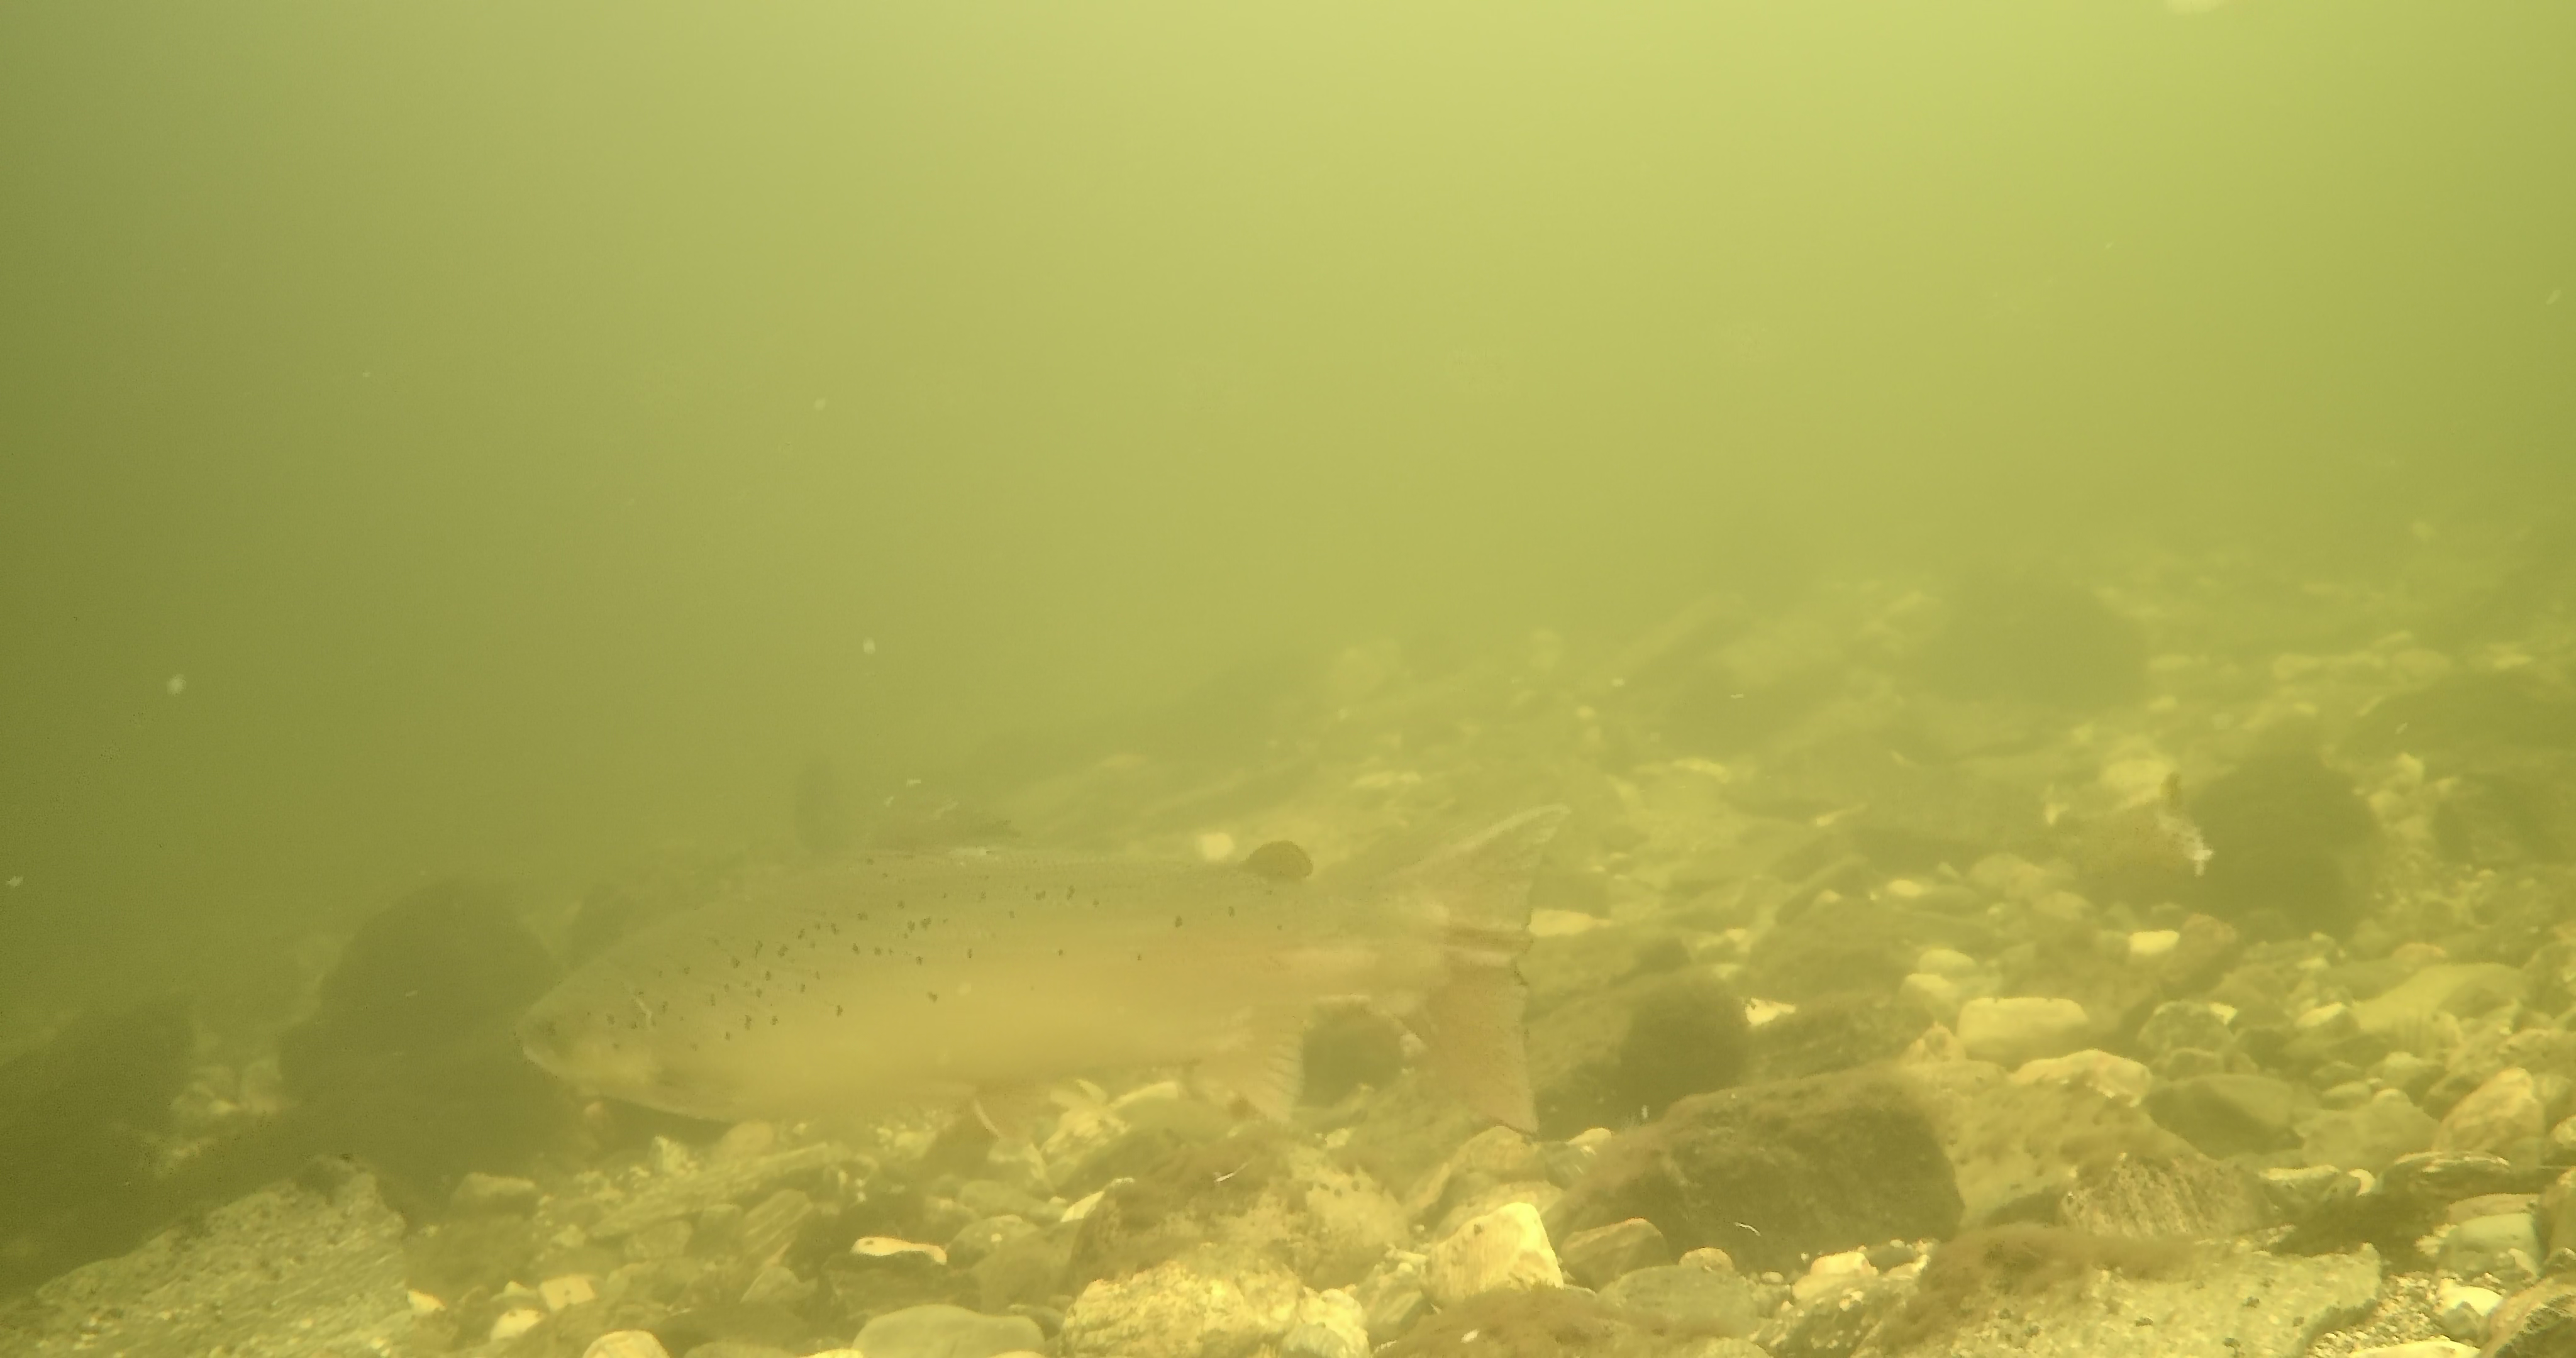salmon: (509, 796, 1571, 1147)
